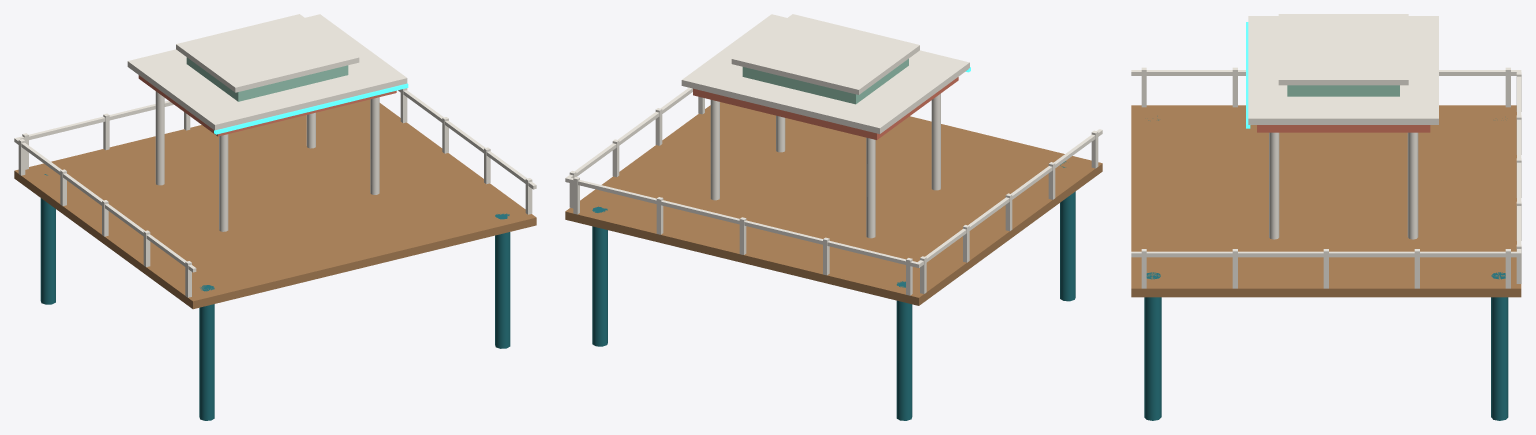
File: pier_head.glb
The picture shows the model from 3 angles, left to right: view 1: azimuth 30°, elevation 25°; view 2: azimuth 150°, elevation 25°; view 3: azimuth 270°, elevation 25°; orthographic projection. The views are drawn at different scales.
Visible parts, largest first — view 1: pier_head; view 2: pier_head; view 3: pier_head.
Boxes of the visible parts, left/top/right/bottom form: pier_head: left=14, top=14, right=536, bottom=420; pier_head: left=565, top=14, right=1102, bottom=420; pier_head: left=1131, top=14, right=1521, bottom=420.
Bounding box in the file's own units: 10.02 × 7.42 × 9.01.
